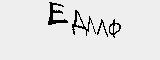Д: (71, 10, 89, 37)
Е: (45, 1, 66, 27)
Л: (95, 18, 110, 37), (85, 17, 98, 36)
Ф: (108, 18, 125, 40)
